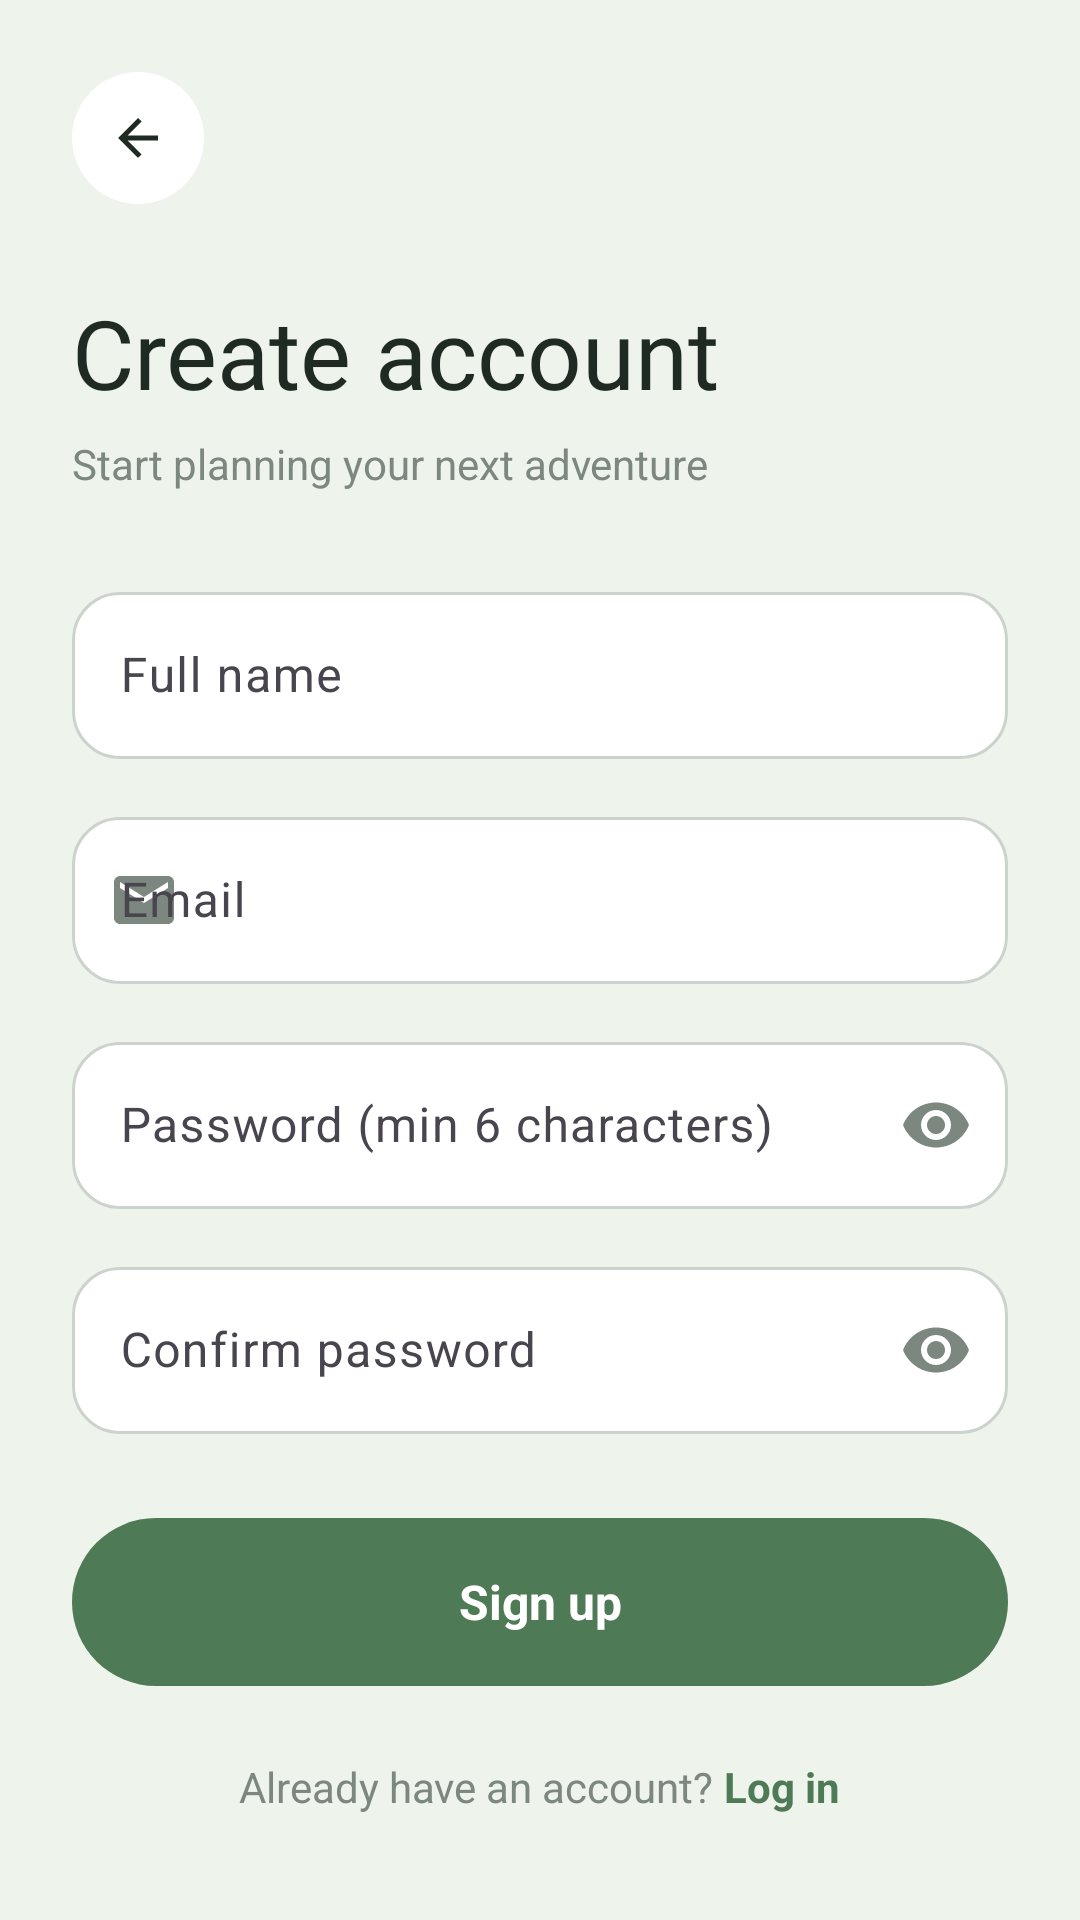

Icon click points for this 1080px×1920px phone screenshot, format (x,y):
back: (138,138)
